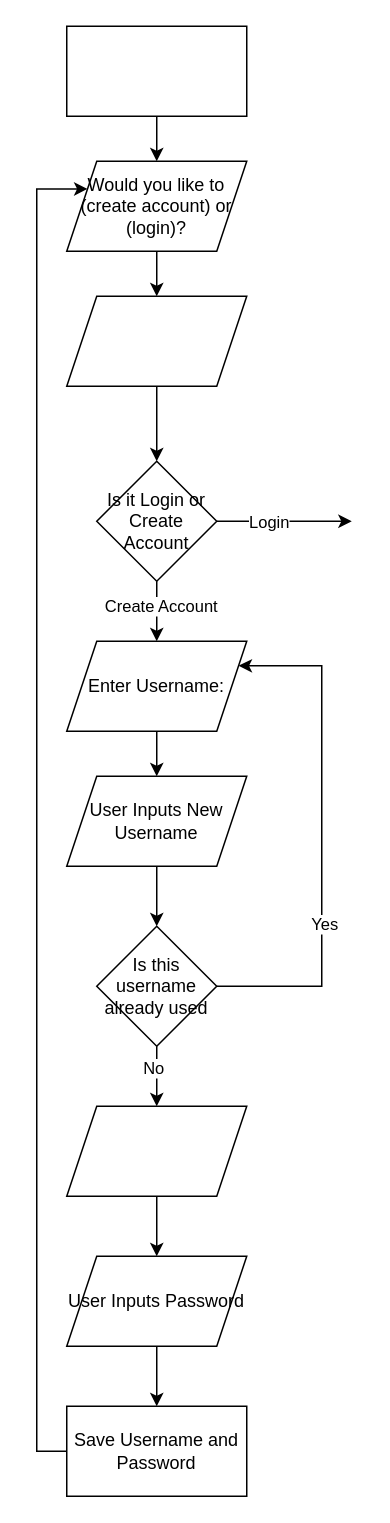
Some shapes in this 390 by 1523 pixel diagram are drawn without their labels. Here are the shapes that lost their labels. From the top down, the box of each, then its label:
(65, 25, 247, 116): Start Program
(65, 295, 247, 386): User inputs response
(65, 1105, 247, 1196): Enter Password:
